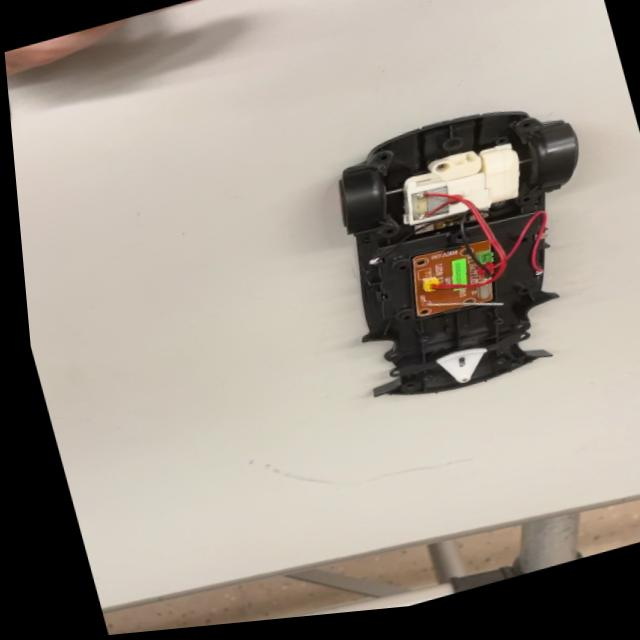Chassis: (307, 89, 620, 416)
